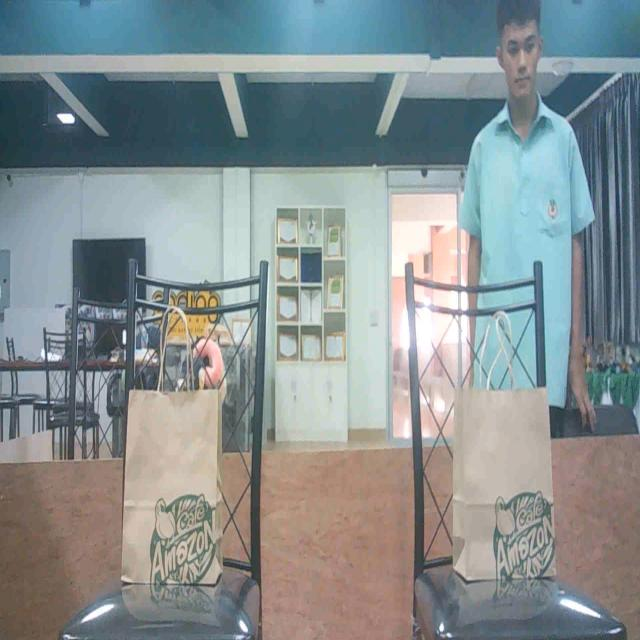bag: (455, 399, 555, 579), (129, 392, 219, 588)
